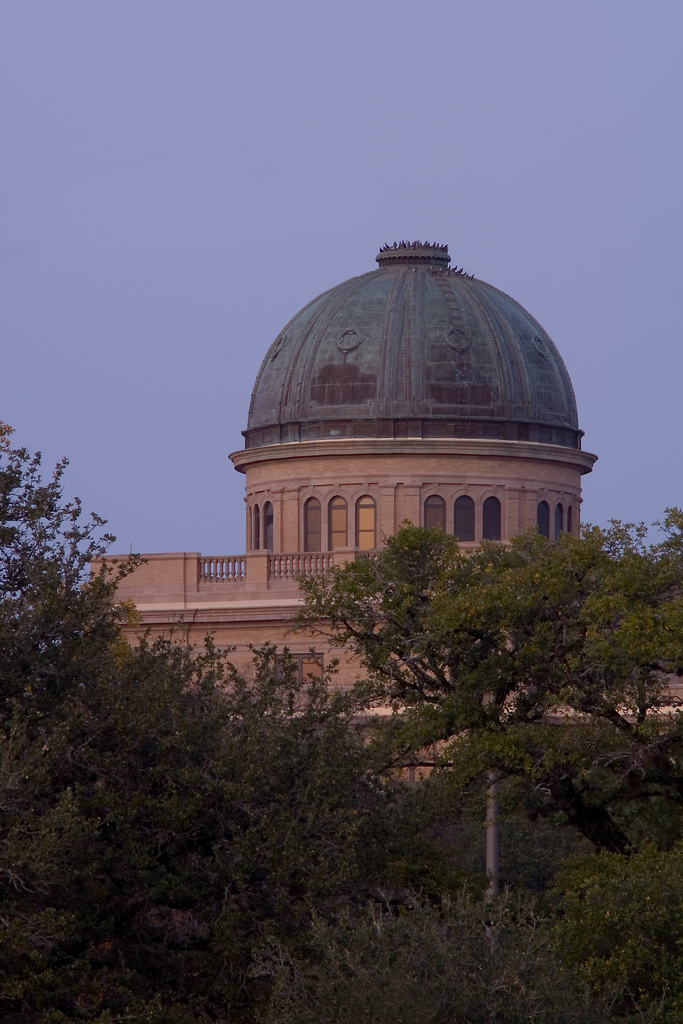Tree: (0, 418, 682, 1023)
